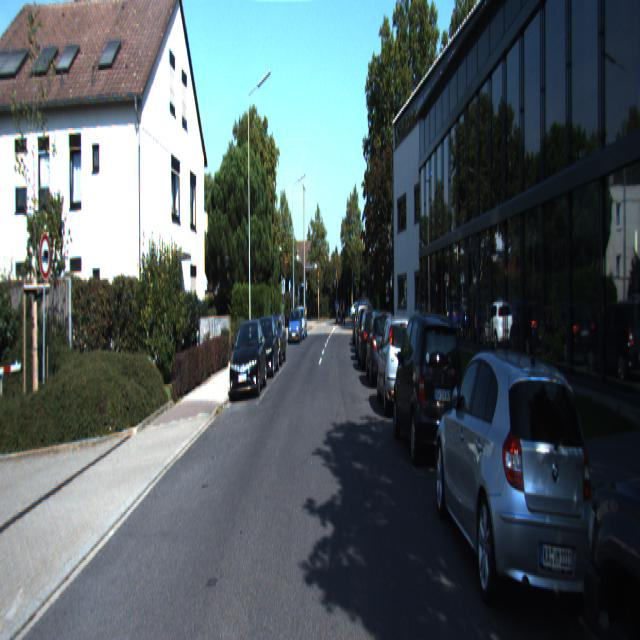Car: (432, 333, 603, 631), (392, 306, 467, 472), (376, 312, 422, 420), (229, 317, 267, 400), (365, 309, 399, 392), (249, 313, 280, 378), (358, 305, 384, 374), (262, 313, 288, 366), (288, 306, 303, 344)
